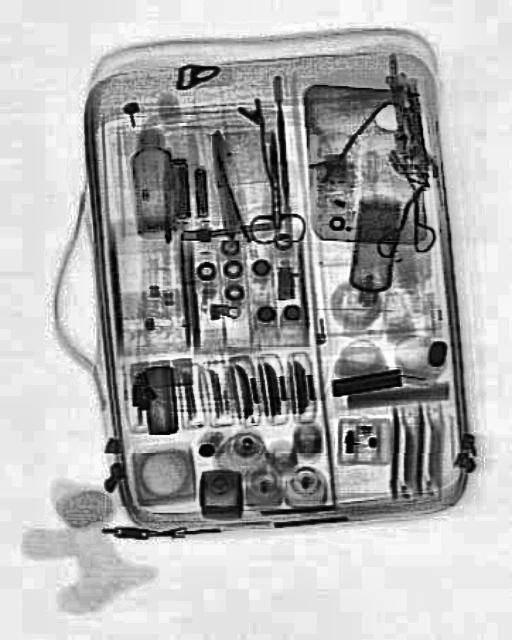Scissors: (242, 128, 304, 242)
